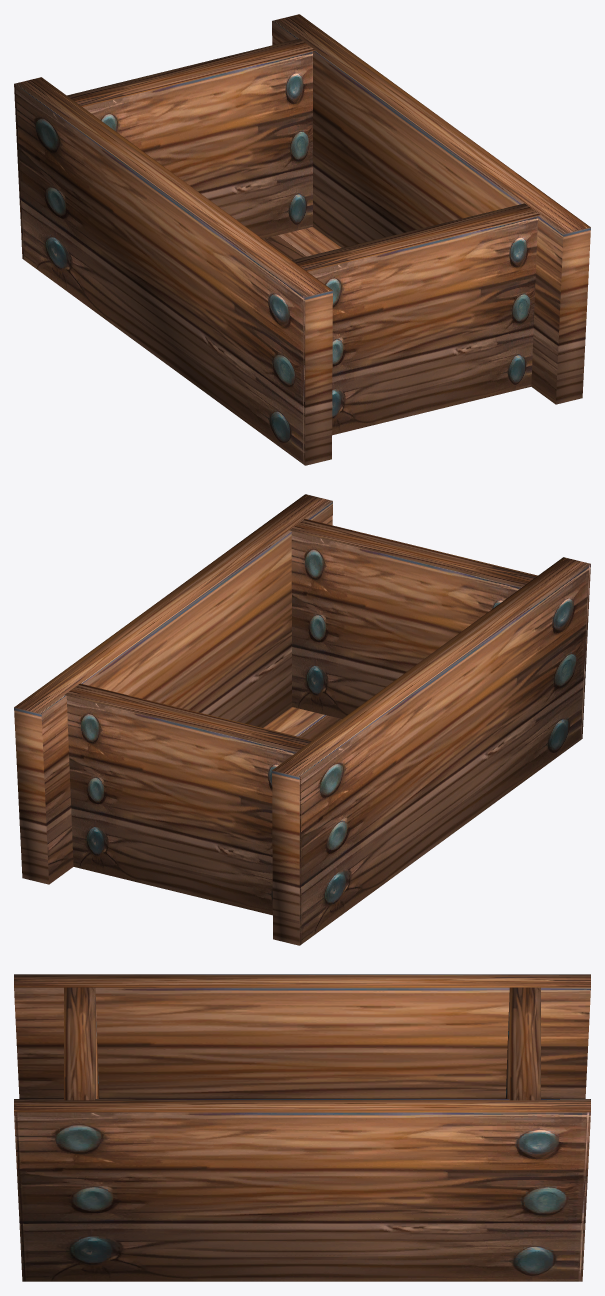
File: crate02.obj
The picture shows the model from 3 angles, top to bottom: view 1: azimuth 30°, elevation 25°; view 2: azimuth 150°, elevation 25°; view 3: azimuth 270°, elevation 25°; orthographic projection.
Parts seen in each view (by area): view 1: crate02; view 2: crate02; view 3: crate02.
Part boxes in pixels (bbox=[...]): crate02: bbox=[14, 14, 590, 465]; crate02: bbox=[14, 494, 590, 945]; crate02: bbox=[14, 974, 590, 1281].
Size of the model in its own units: 0.8646 by 0.5002 by 1.53.
1 material, 1 textured.
